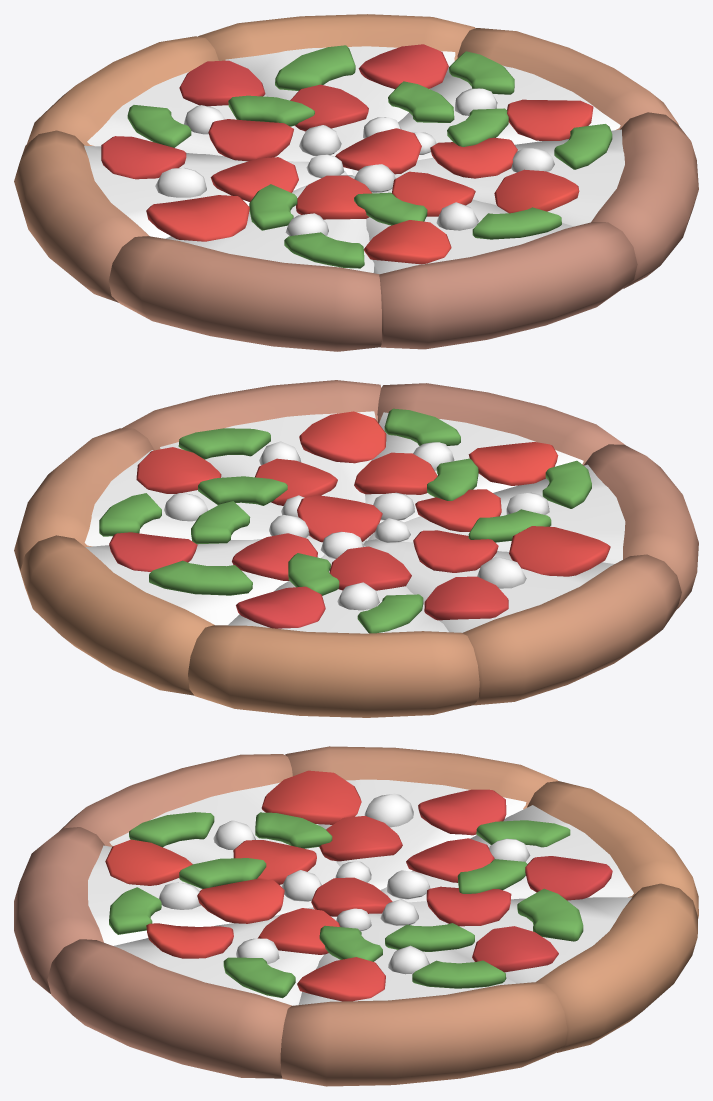
The model's file is Pizza.fbx.
3 renders of one model, top to bottom at view 1: azimuth 30°, elevation 25°; view 2: azimuth 150°, elevation 25°; view 3: azimuth 270°, elevation 25°, orthographic.
Visible parts, largest first — view 1: Pizza; view 2: Pizza; view 3: Pizza.
Part boxes in pixels (x1,y1,x2,y2): Pizza: (14, 14, 698, 351); Pizza: (14, 380, 698, 717); Pizza: (14, 746, 698, 1086).
Size of the model in its own units: 0.5276 by 0.0681 by 0.5245.
